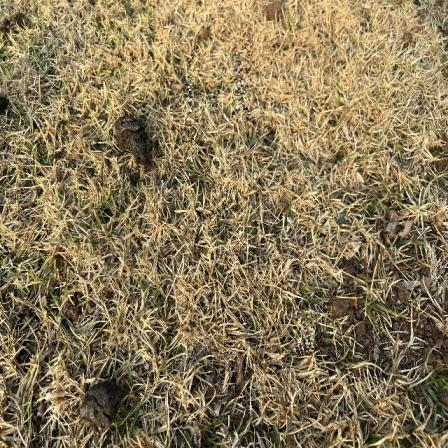dog-poop: (75, 374, 122, 438), (112, 110, 146, 160)
